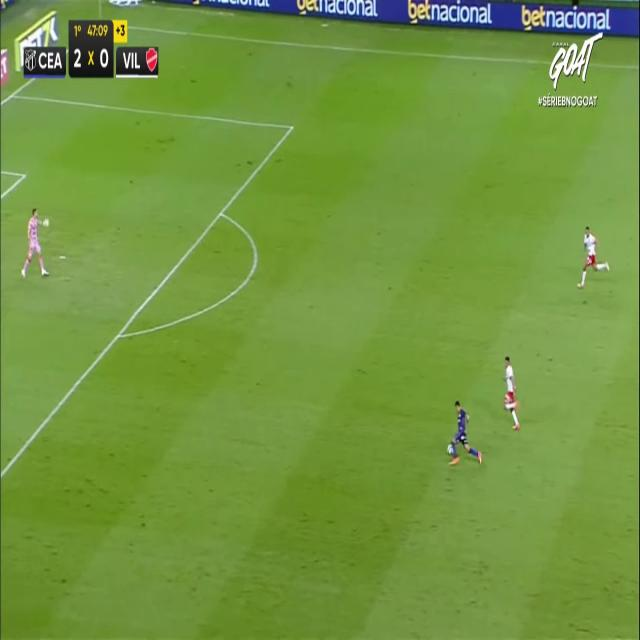ball: (447, 440, 456, 457)
goalkeeper: (20, 207, 50, 279)
player: (446, 399, 482, 467), (577, 225, 610, 288), (502, 355, 520, 429)
